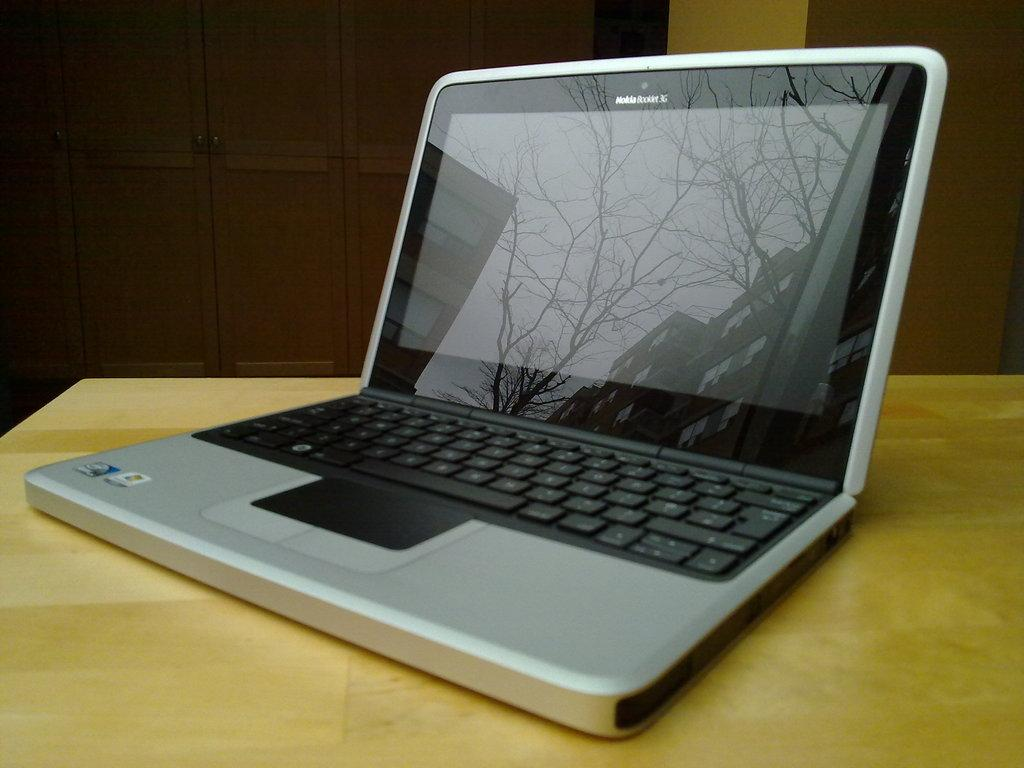Computer-keyboard: (207, 388, 821, 580)
